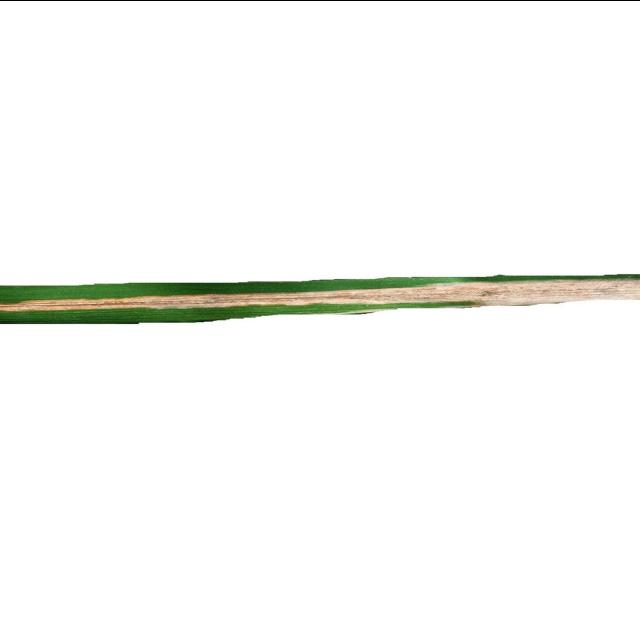Bacterial leaf blight: (0, 278, 640, 310)
